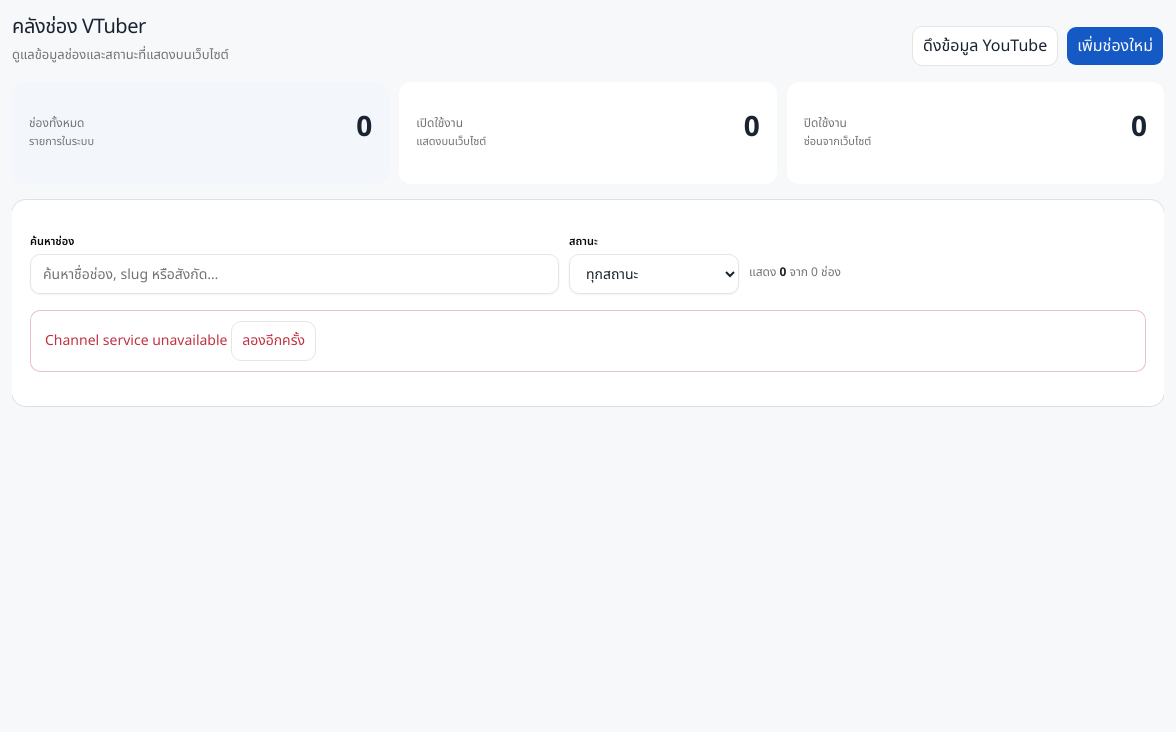
Scenario: recovers from a failed channels request without crashing
The image size is (1176, 732).
Expected: the message shows "Channel service unavailable", [45,330,228,351]
What coordinates should you click on to do the following:
click the button "ลองอีกครั้ง"
I would click on:
 (274, 341)
Its box is [231,321,316,361].
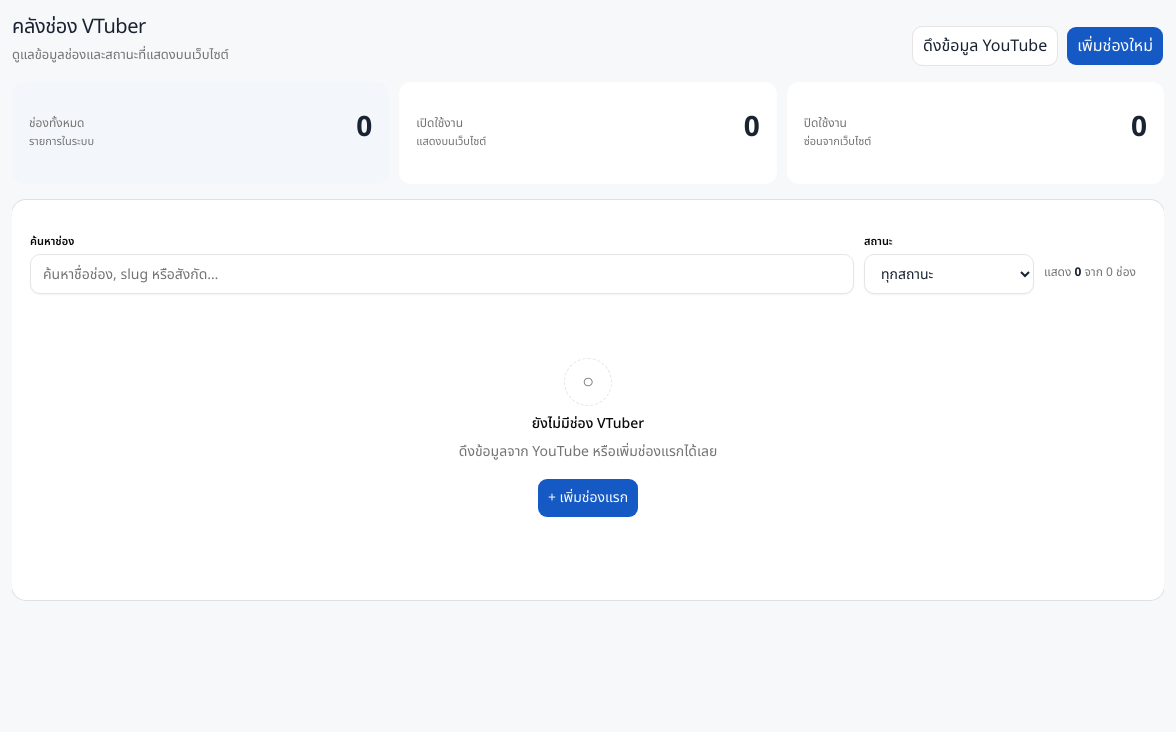
Expected: the text "ยังไม่มีช่อง VTuber" is shown, [532,414,644,434]
Expected: the message "Channel service unavailable ลองอีกครั้ง" is gone
